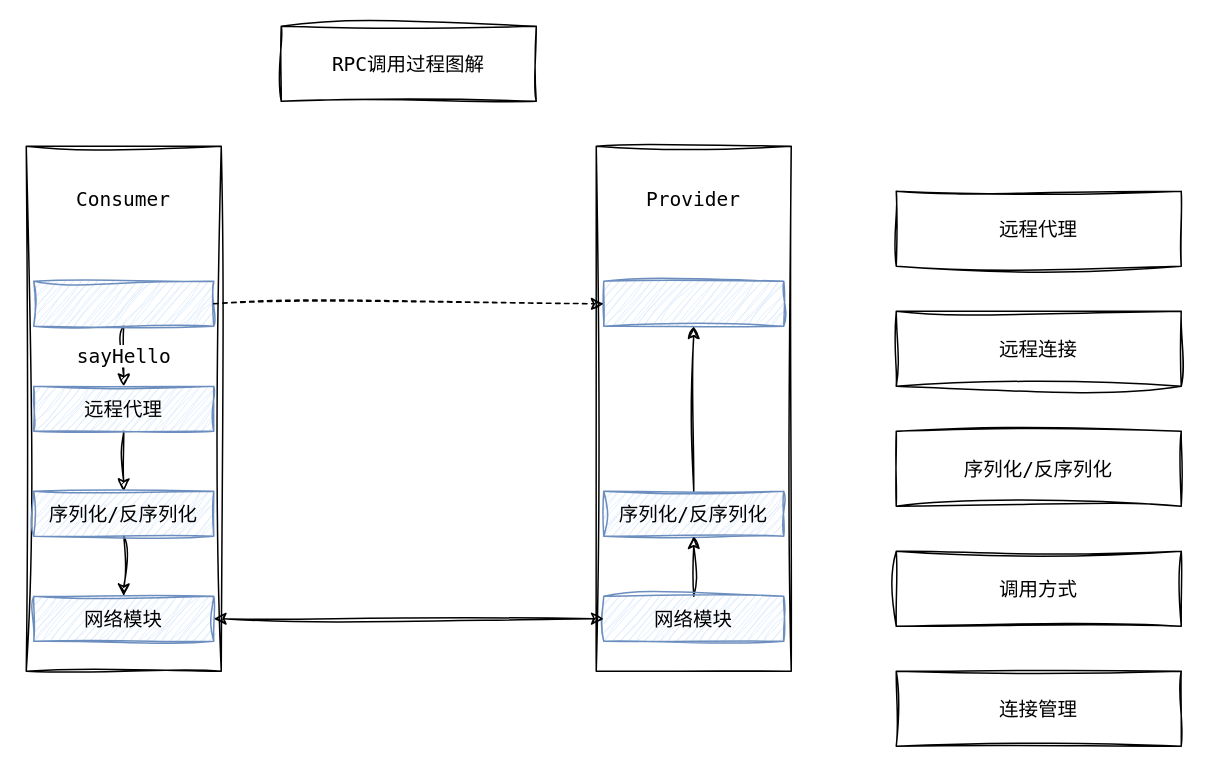
Image size: 1208x773. Some labels were removed from this diagram. The centre of each missing label's shape, as x and y in pixels:
sayHello实现: (x=693, y=303)
业务代码: (x=123, y=303)
